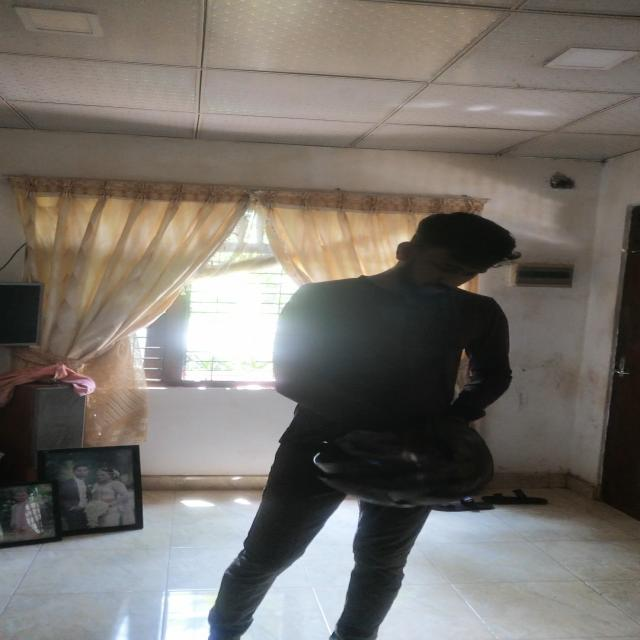Person: (248, 200, 524, 640)
